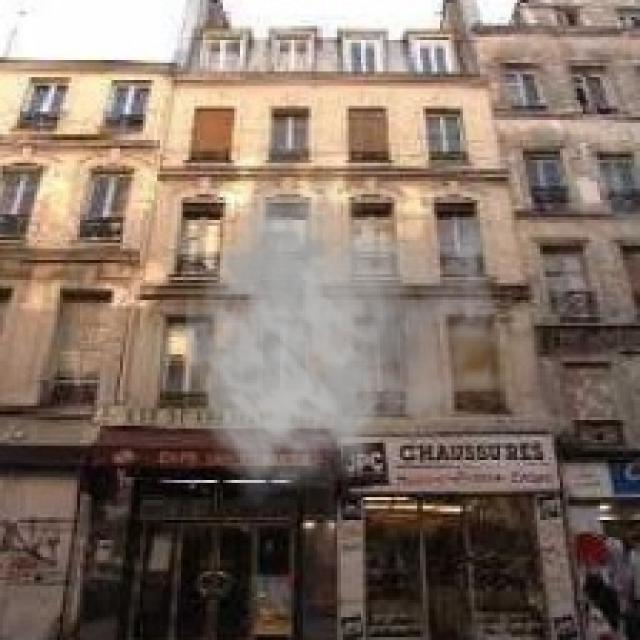smoke: (183, 157, 528, 506)
